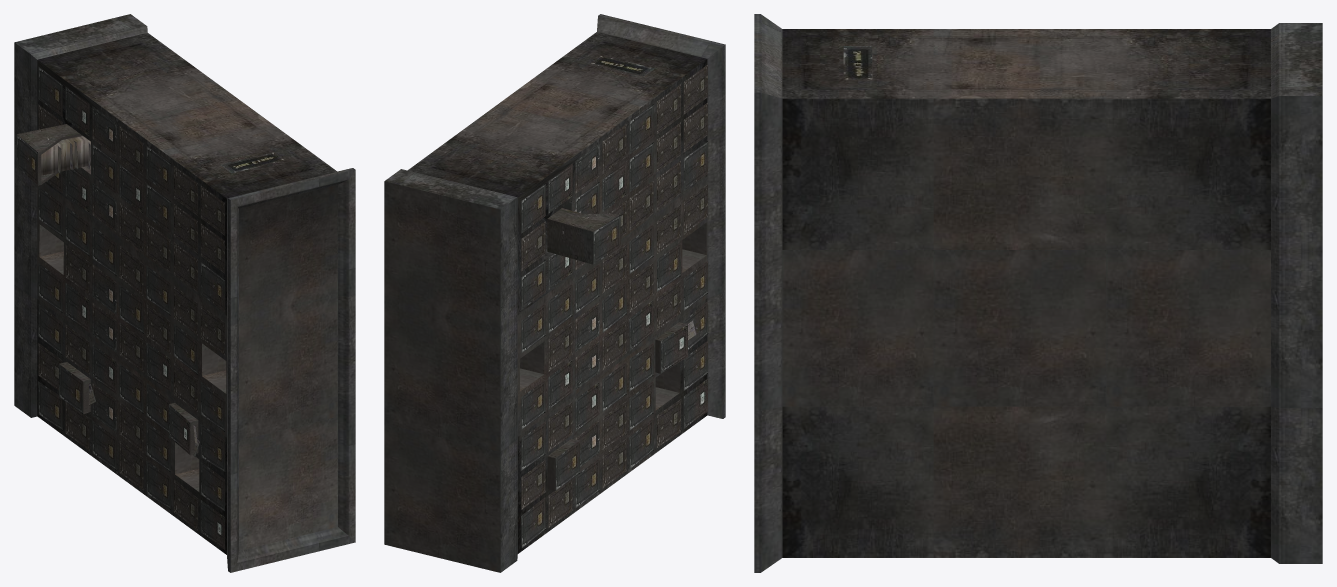
The model's file is furniture_file_cabinet_med_a.glb.
3 renders of one model, left to right at view 1: azimuth 30°, elevation 25°; view 2: azimuth 150°, elevation 25°; view 3: azimuth 270°, elevation 25°, orthographic. The views are drawn at different scales.
Bounding box in the file's own units: 46.47 × 98.14 × 105.
Materials: 1 (1 with a texture image).
